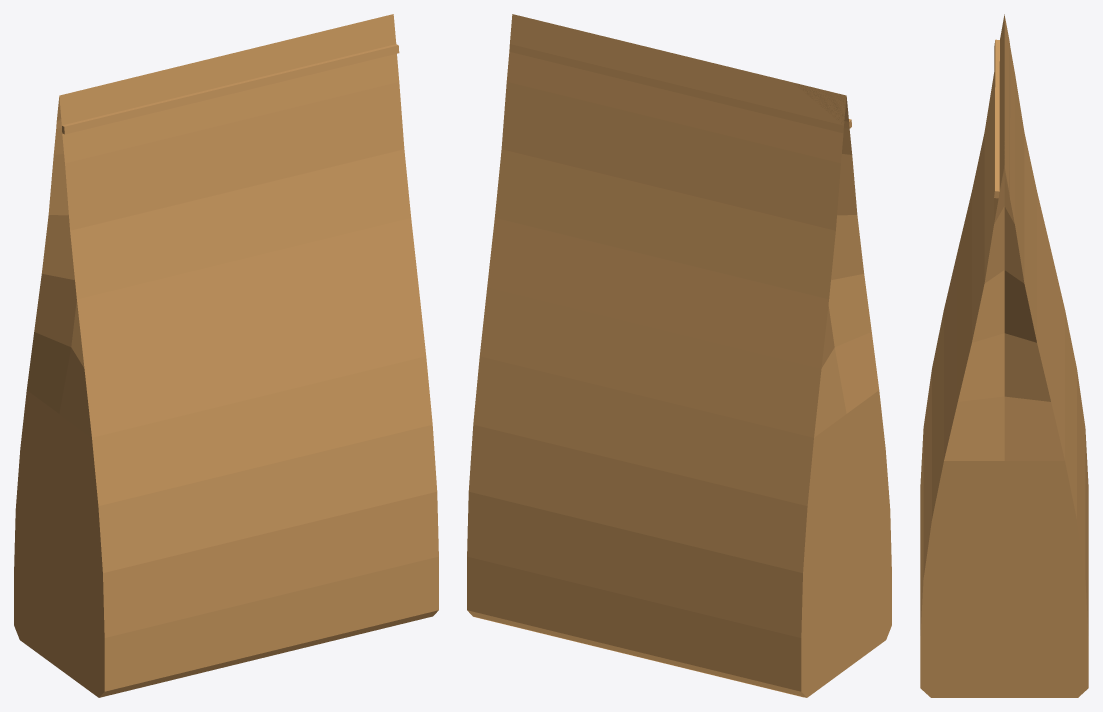
Rendered from side_gusset_paper.glb.
The picture shows the model from 3 angles, left to right: view 1: azimuth 30°, elevation 25°; view 2: azimuth 150°, elevation 25°; view 3: azimuth 270°, elevation 25°; orthographic projection. The views are drawn at different scales.
Visible parts, largest first — view 1: side gusset; view 2: side gusset; view 3: side gusset.
Boxes of the visible parts, left/top/right/bottom form: side gusset: left=14, top=14, right=438, bottom=697; side gusset: left=467, top=14, right=891, bottom=697; side gusset: left=920, top=14, right=1088, bottom=697.
Bounding box in the file's own units: 0.4132 × 0.6926 × 0.1939.
